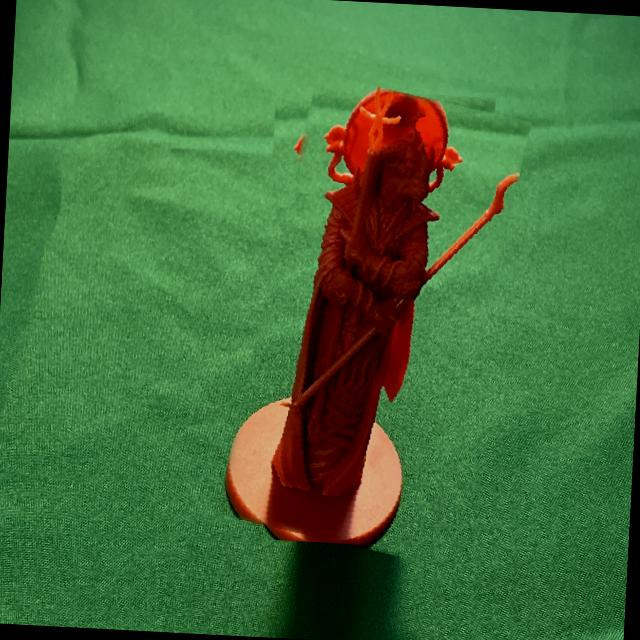amon: (233, 78, 514, 559)
